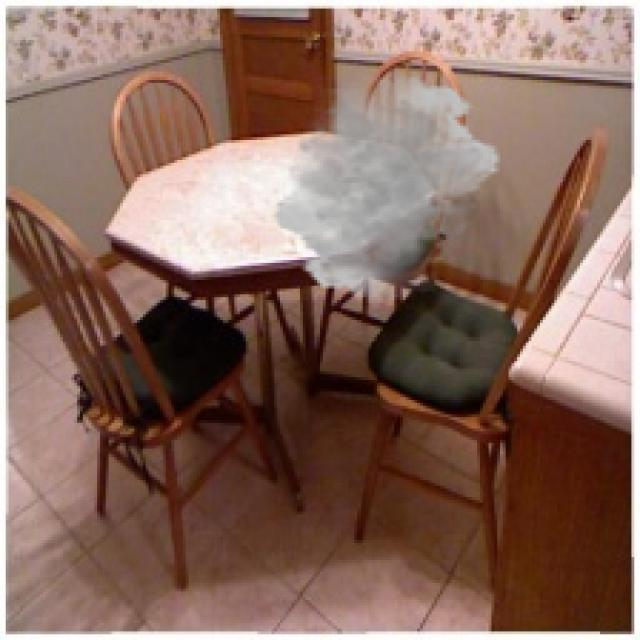Smoke: (271, 71, 503, 303)
